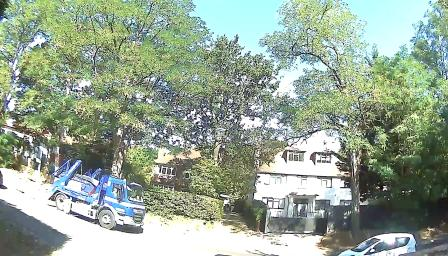Cars: (53, 168, 151, 232), (351, 232, 421, 256)
